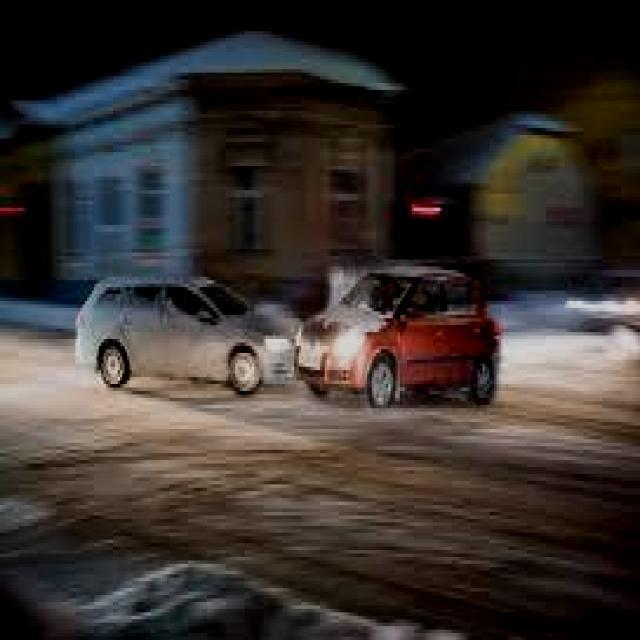Moderate: (72, 256, 505, 412)
